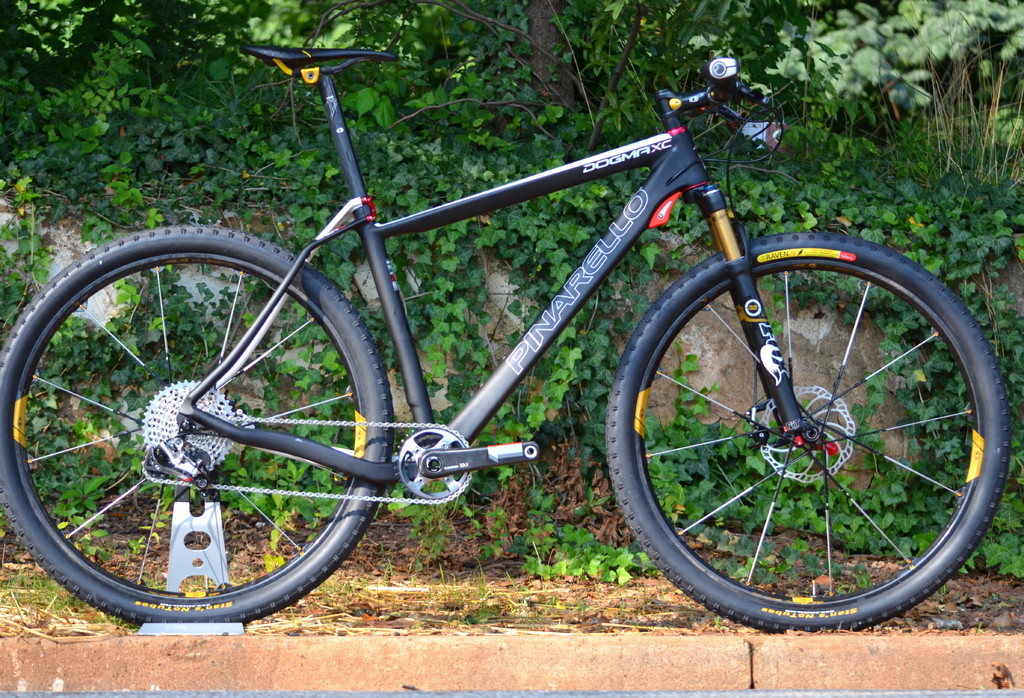Bike_toward: (73, 25, 948, 627)
